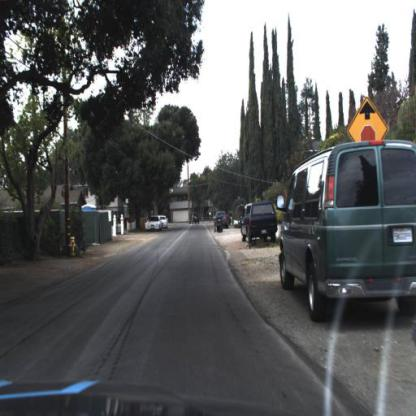biker: (207, 211, 214, 223)
car: (274, 136, 416, 332), (237, 202, 279, 246), (215, 210, 231, 229), (146, 216, 162, 234), (189, 212, 201, 227), (162, 215, 170, 230)
